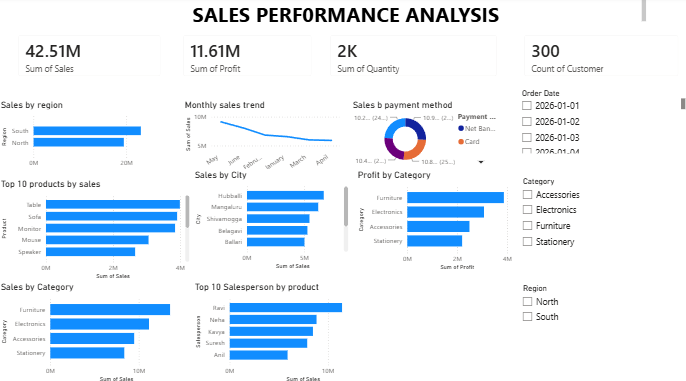

Layout of this report page (visuals, bound fields, positions):
{"tool":"powerbi","page":{"name":"Page 1","canvas":[1280,720],"ordinal":0},"visuals":[{"type":"cardVisual","fields":{"Data":["Sum(sales_analysis salesdata.Profit)"]},"box":[326.6,54.4,272.1,110.7],"z":0},{"type":"cardVisual","fields":{"Data":["Sum(sales_analysis salesdata.Quantity)"]},"box":[598.7,54.4,343.5,110.7],"z":1000},{"type":"cardVisual","fields":{"Data":["CountNonNull(sales_analysis salesdata.Customer)"]},"box":[959.1,54.4,320.9,110.7],"z":2000},{"type":"lineChart","title":"Monthly sales trend","fields":{"Category":["sales_analysis salesdata.Month"],"Y":["Sum(sales_analysis salesdata.Sales)"]},"box":[341.6,189.6,298.4,146.4],"z":3000},{"type":"clusteredBarChart","title":"Sales by Category","fields":{"Y":["Sum(sales_analysis salesdata.Sales)"],"Category":["sales_analysis salesdata.Category"]},"box":[0,527.4,360.4,193.3],"z":4000},{"type":"clusteredBarChart","title":"Sales by region","fields":{"Category":["sales_analysis salesdata.Region"],"Y":["Sum(sales_analysis salesdata.Sales)"]},"box":[0,189.6,341.6,137],"z":5000},{"type":"clusteredBarChart","title":"Top 10 products by sales","fields":{"Category":["sales_analysis salesdata.Product"],"Y":["Sum(sales_analysis salesdata.Sales)"]},"box":[0,336,360.4,193.3],"z":6000},{"type":"clusteredBarChart","title":"Top 10   Salesperson  by product","fields":{"Y":["Sum(sales_analysis salesdata.Sales)"],"Category":["sales_analysis salesdata.Salesperson"]},"box":[360.4,527.4,360.4,193.3],"z":7000},{"type":"donutChart","title":"Sales b payment method","fields":{"Category":["sales_analysis salesdata.Payment Mode"],"Y":["Sum(sales_analysis salesdata.Sales)"]},"box":[653.1,189.6,289,129.5],"z":8000},{"type":"clusteredBarChart","title":"Sales by City","fields":{"Y":["Sum(sales_analysis salesdata.Sales)"],"Category":["sales_analysis salesdata.City"]},"box":[359.9,335.8,295,191.1],"z":9000},{"type":"clusteredBarChart","title":"Profit by Category","fields":{"Y":["Sum(sales_analysis salesdata.Profit)"],"Category":["sales_analysis salesdata.Category"]},"box":[662.5,319.1,296.5,193.3],"z":11000},{"type":"slicer","fields":{"Values":["sales_analysis salesdata.Order Date"]},"box":[959.1,165.1,320.9,129.9],"z":12000},{"type":"cardVisual","fields":{"Data":["Sum(sales_analysis salesdata.Sales)"]},"box":[20.6,54.4,298.4,110.7],"z":13000},{"type":"slicer","fields":{"Values":["sales_analysis salesdata.Category"]},"box":[960,328,320,184],"z":14000},{"type":"slicer","fields":{"Values":["sales_analysis salesdata.Region"]},"box":[960.9,527.4,319.1,193.3],"z":15000},{"type":"textbox","box":[99.5,0,1107.3,54.4],"z":16000}]}

Visuals, with their boxes in screenshot pixels (x1, y1, x2, y2), scaled from the page's 1280x720 canvas onto the 686x381 screenshot:
cardVisual - Sum(sales_analysis salesdata.Profit): crop(175, 29, 321, 87)
cardVisual - Sum(sales_analysis salesdata.Quantity): crop(321, 29, 505, 87)
cardVisual - CountNonNull(sales_analysis salesdata.Customer): crop(514, 29, 685, 87)
"Monthly sales trend" lineChart: crop(183, 100, 343, 178)
"Sales by Category" clusteredBarChart: crop(0, 279, 193, 380)
"Sales by region" clusteredBarChart: crop(0, 100, 183, 173)
"Top 10 products by sales" clusteredBarChart: crop(0, 178, 193, 280)
"Top 10   Salesperson  by product" clusteredBarChart: crop(193, 279, 386, 380)
"Sales b payment method" donutChart: crop(350, 100, 505, 169)
"Sales by City" clusteredBarChart: crop(193, 178, 351, 279)
"Profit by Category" clusteredBarChart: crop(355, 169, 514, 271)
slicer - sales_analysis salesdata.Order Date: crop(514, 87, 685, 156)
cardVisual - Sum(sales_analysis salesdata.Sales): crop(11, 29, 171, 87)
slicer - sales_analysis salesdata.Category: crop(514, 174, 685, 271)
slicer - sales_analysis salesdata.Region: crop(515, 279, 685, 380)
textbox: crop(53, 0, 647, 29)
